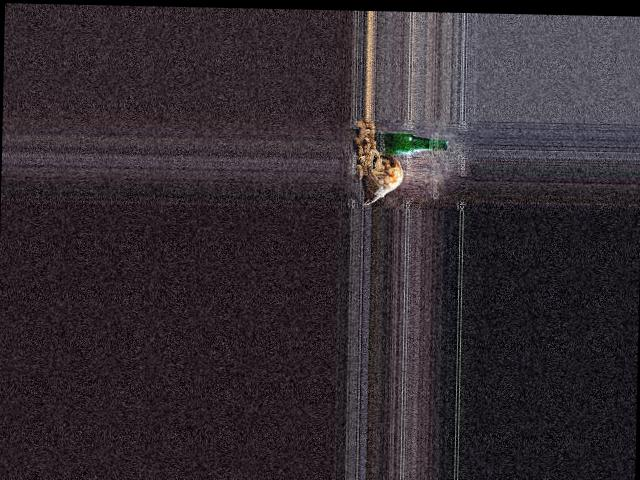beer: (368, 131, 449, 155)
